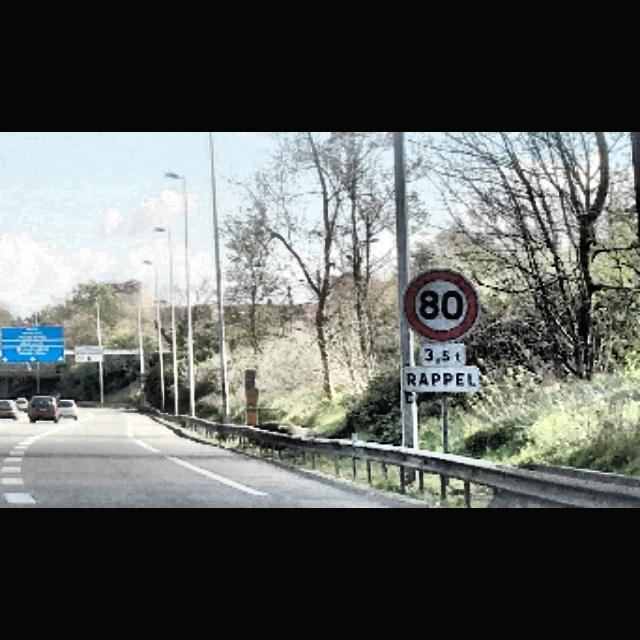speed_80: (402, 268, 481, 342)
